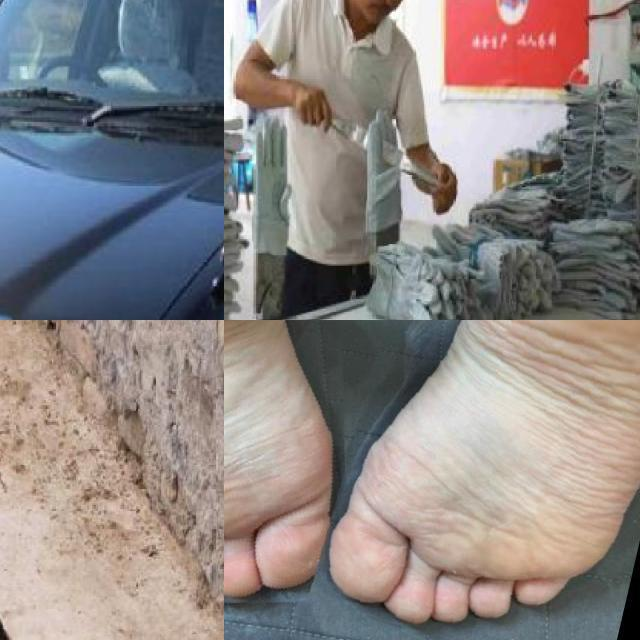Barefoots: (332, 320, 640, 633), (224, 320, 350, 610)
face_nomask: (362, 0, 404, 24)
hand_noglove: (293, 82, 332, 132), (429, 160, 456, 213)
person: (232, 0, 472, 320)
